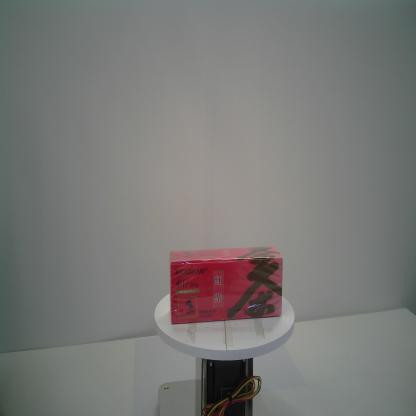Instant Drink: (169, 246, 283, 325)
